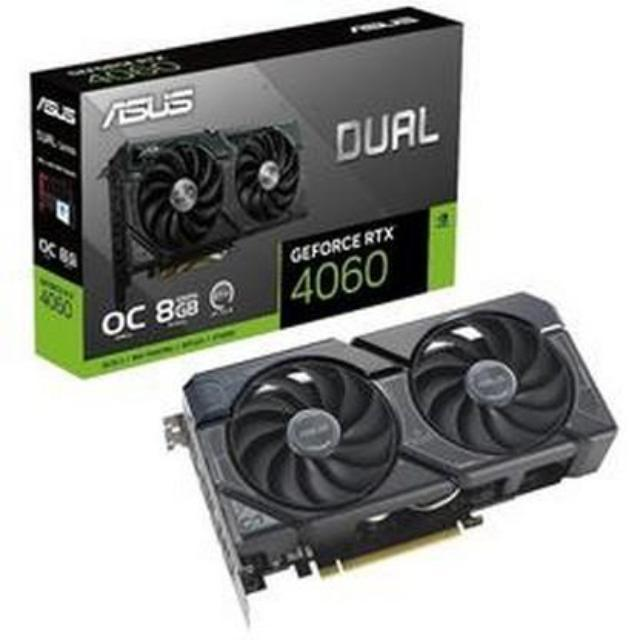GPU: (168, 290, 628, 598)
